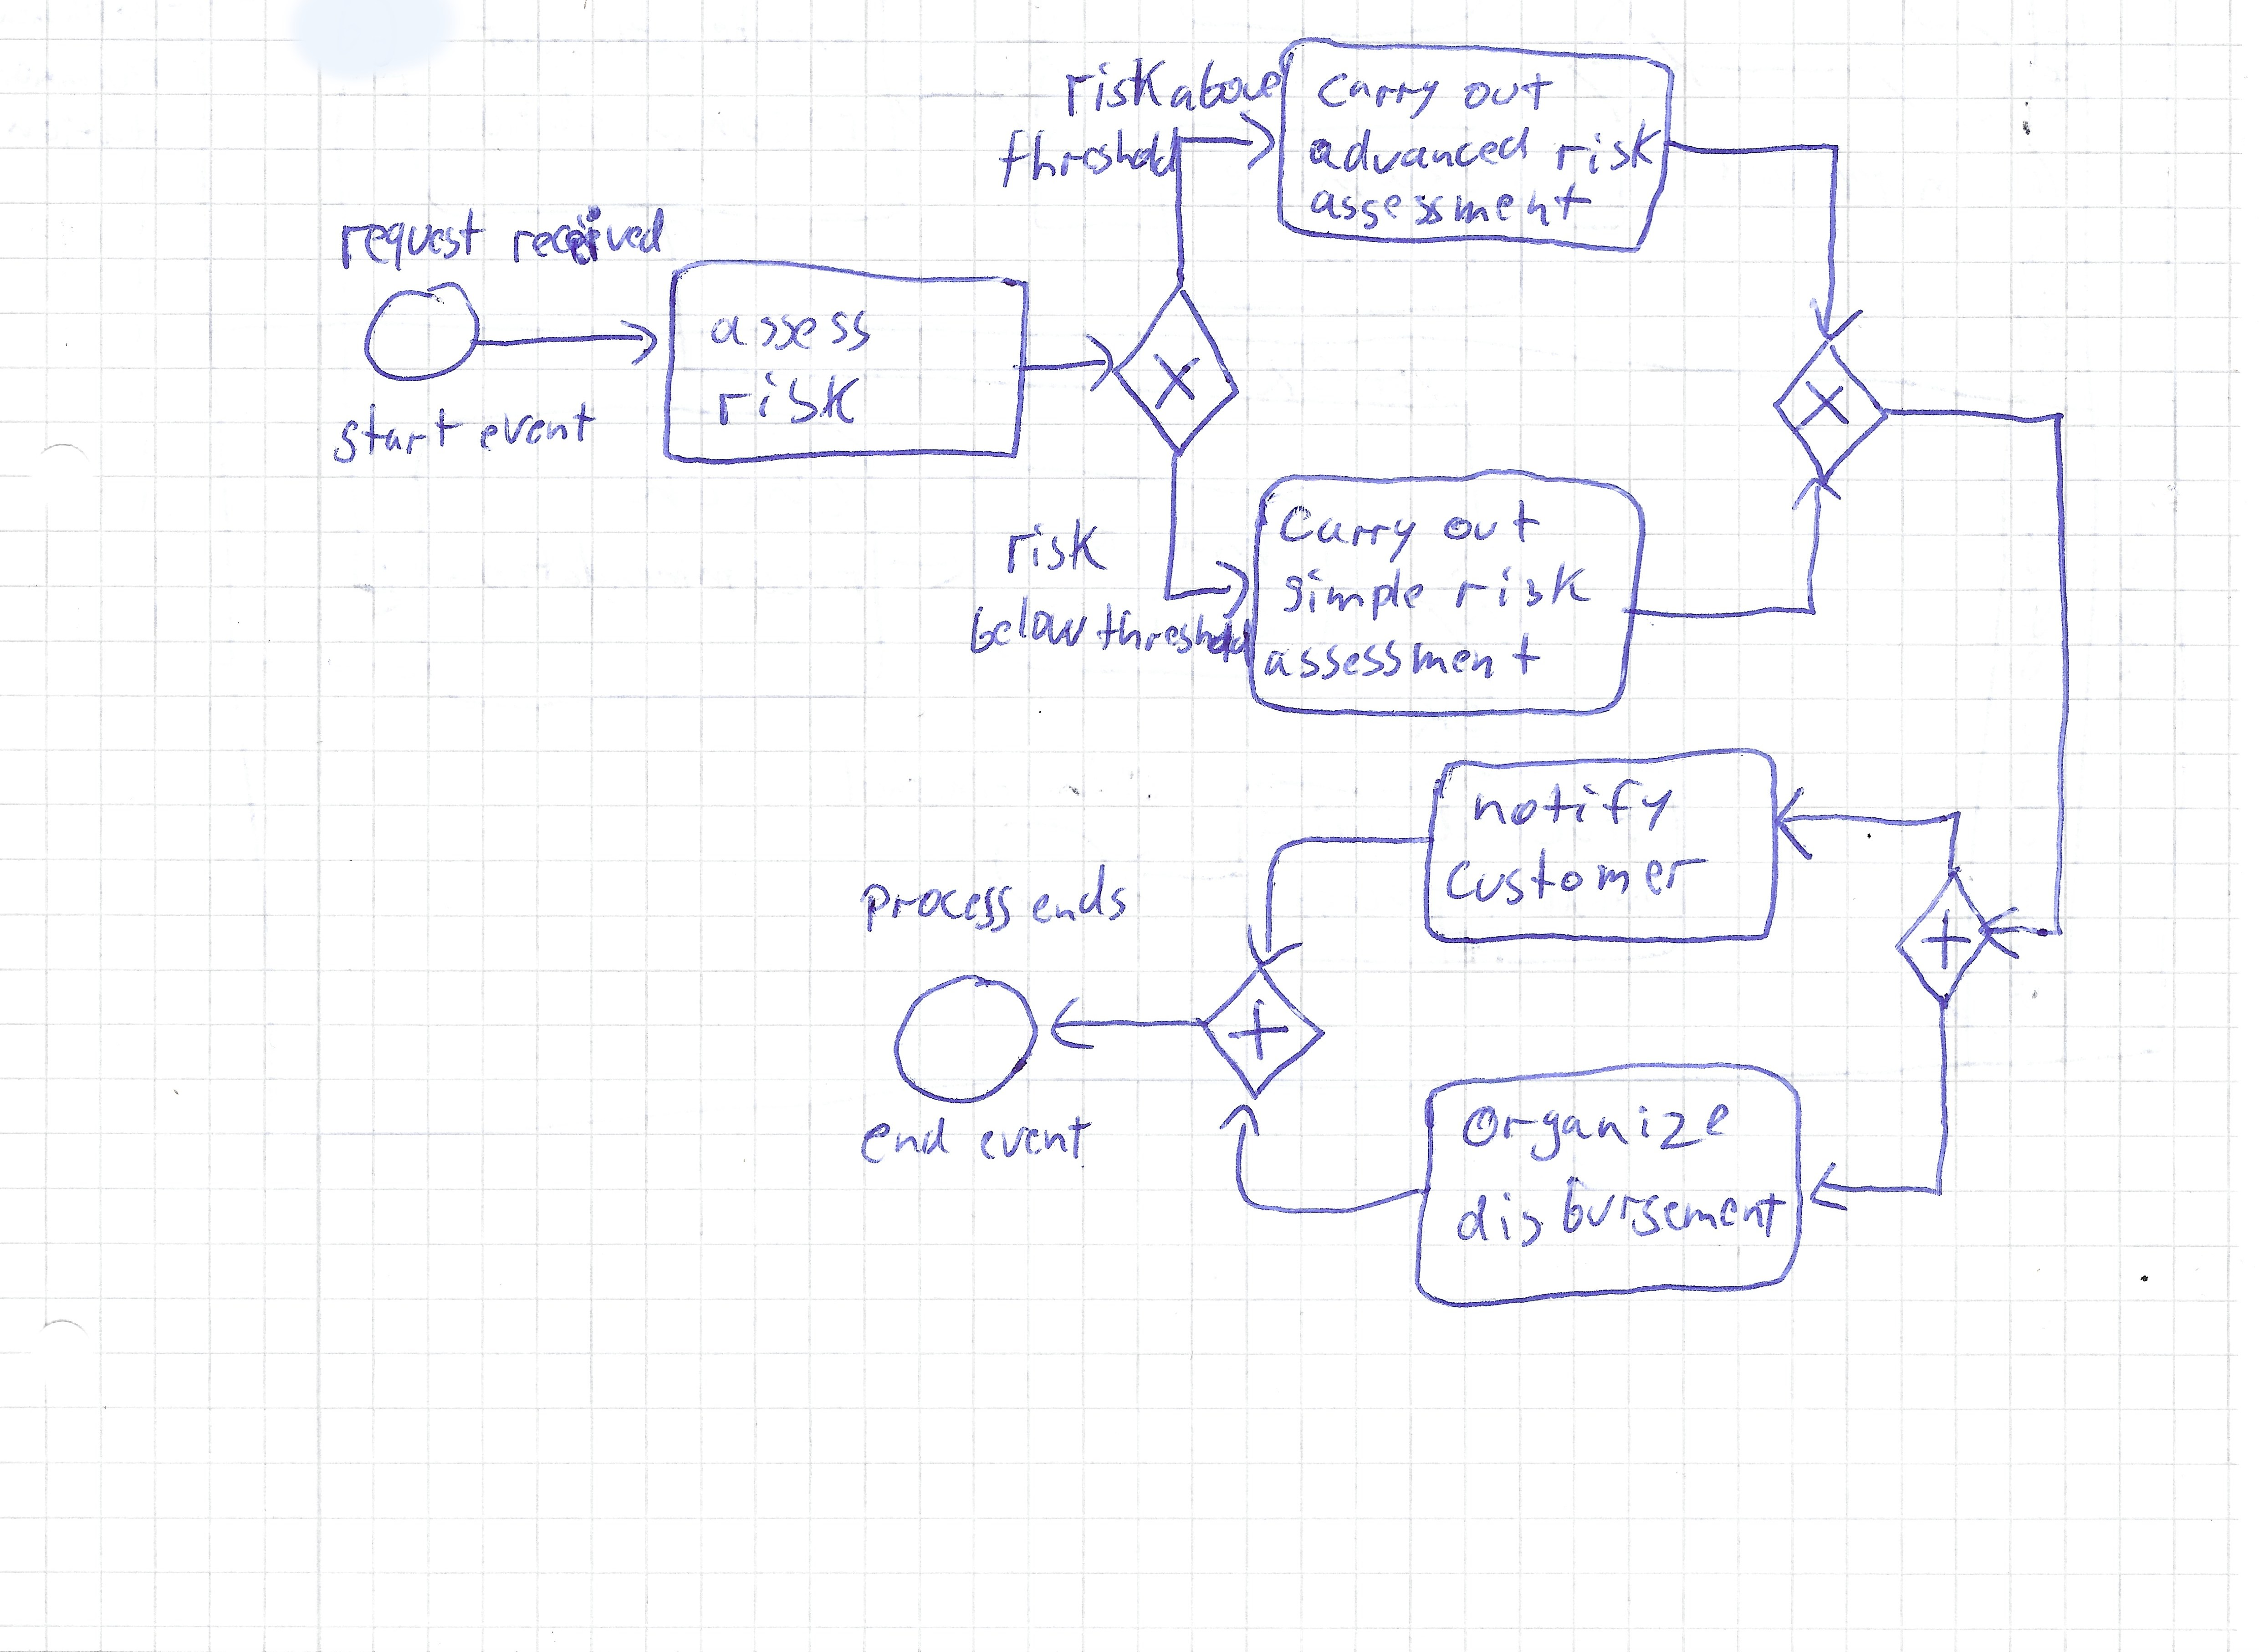Carry: (1273, 498, 1421, 570)
Organize: (1452, 1094, 1738, 1170)
Process: (854, 877, 1023, 940)
above: (1163, 53, 1287, 117)
advanced: (1301, 119, 1536, 182)
assess: (703, 302, 877, 358)
assessment: (1301, 175, 1598, 237), (1256, 626, 1547, 686)
below: (961, 586, 1094, 663)
carry: (1308, 63, 1445, 126)
customer: (1436, 838, 1717, 915)
disbursement: (1449, 1166, 1792, 1254)
end: (854, 1110, 954, 1170)
ends: (1024, 858, 1133, 931)
event: (474, 395, 602, 459), (973, 1110, 1096, 1164)
notify: (1464, 770, 1682, 840)
out: (1436, 493, 1547, 549), (1456, 65, 1561, 117)
received: (503, 198, 672, 274)
request: (331, 200, 491, 279)
risk: (710, 363, 866, 433), (1447, 554, 1596, 617), (1058, 49, 1175, 125), (998, 509, 1115, 582), (1549, 112, 1666, 181)
simple: (1273, 561, 1429, 630)
start: (324, 396, 470, 468)
threshold: (989, 119, 1189, 198), (1089, 596, 1258, 673)
